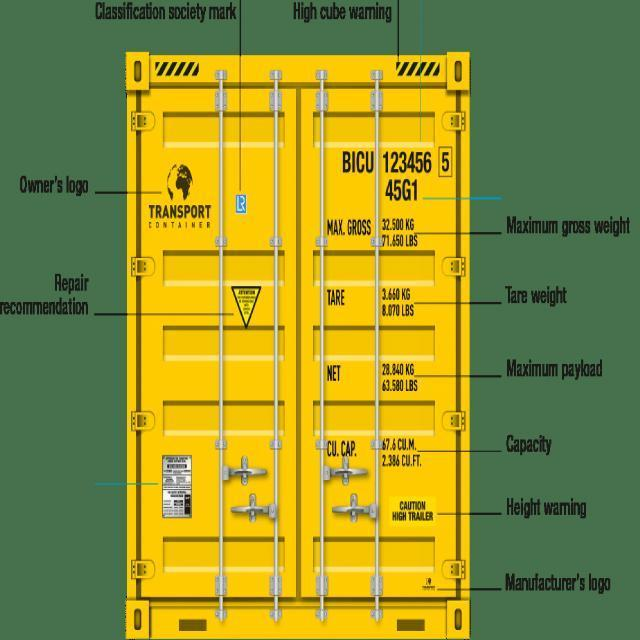ISO: (386, 178, 420, 202)
container_number: (339, 150, 453, 175)
